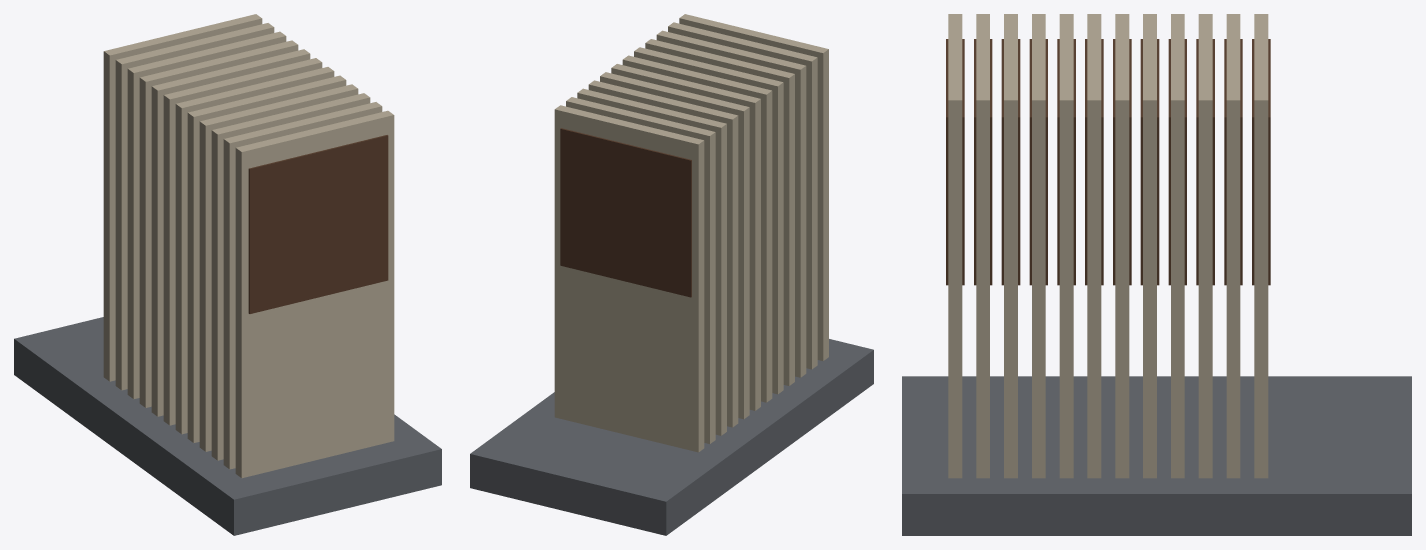
File: StackedChairs.obj
3 renders of one model, left to right at view 1: azimuth 30°, elevation 25°; view 2: azimuth 150°, elevation 25°; view 3: azimuth 270°, elevation 25°, orthographic. The views are drawn at different scales.
Visible parts, largest first — view 1: StackedChairs; view 2: StackedChairs; view 3: StackedChairs.
Boxes of the visible parts, x1,y1,x2,y2 form: StackedChairs: [14, 14, 441, 535]; StackedChairs: [470, 14, 873, 535]; StackedChairs: [902, 14, 1411, 535].
Bounding box in the file's own units: 0.6 × 1 × 1.1.
1 material, 1 textured.
